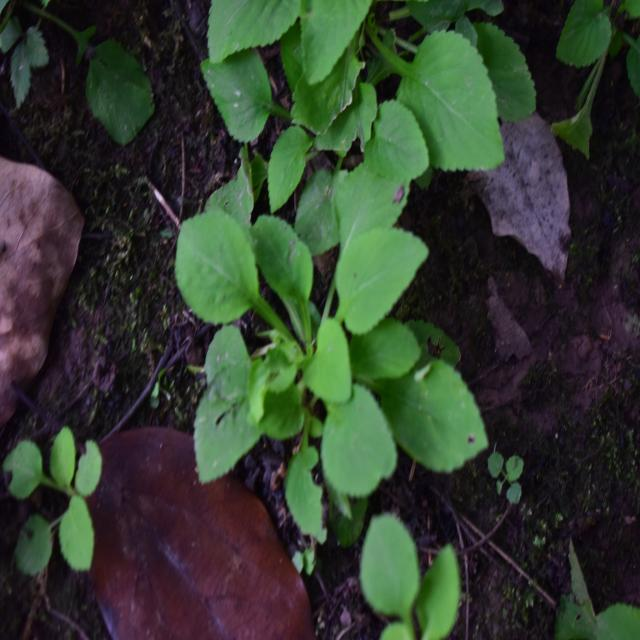Viola: (154, 134, 474, 479)
